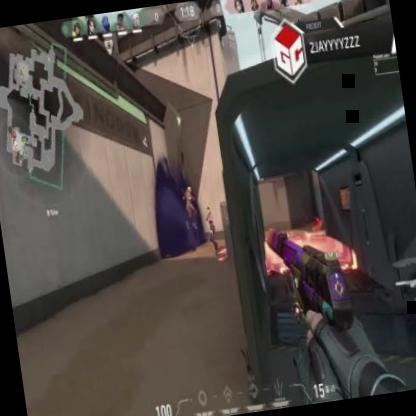enemy: (182, 186, 198, 230), (204, 206, 218, 253)
enemy_head: (186, 186, 191, 194), (207, 206, 210, 214)
